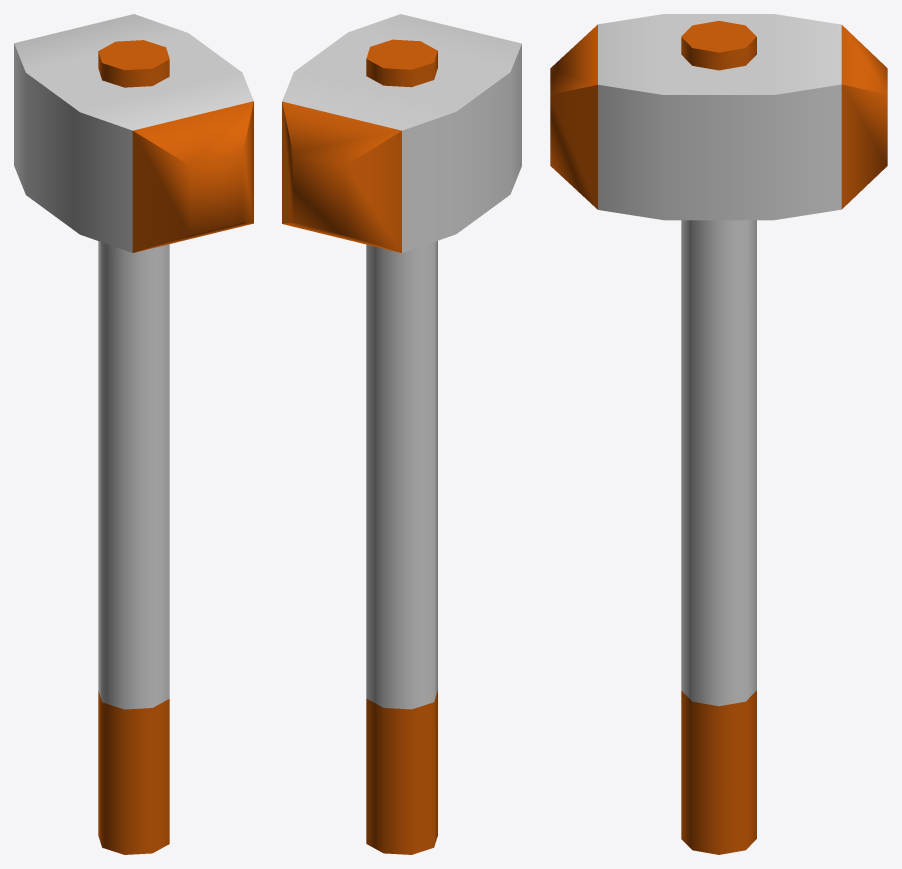
Rendered from hammer.fbx.
The picture shows the model from 3 angles, left to right: view 1: azimuth 30°, elevation 25°; view 2: azimuth 150°, elevation 25°; view 3: azimuth 270°, elevation 25°; orthographic projection. The views are drawn at different scales.
Visible parts, largest first — view 1: Cube; view 2: Cube; view 3: Cube.
Part boxes in pixels (bbox=[...]): Cube: bbox=[14, 14, 253, 854]; Cube: bbox=[282, 14, 521, 854]; Cube: bbox=[550, 14, 887, 854].
Size of the model in its own units: 141 by 651 by 248.
